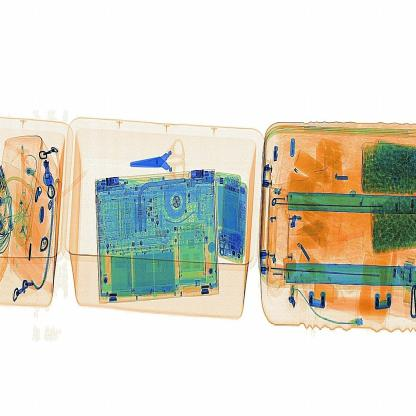gun: (118, 121, 202, 196)
